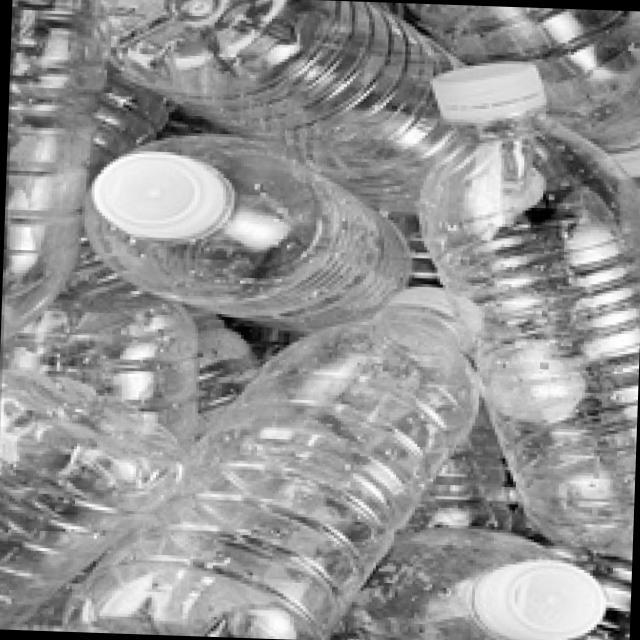good: (54, 235, 517, 637), (373, 47, 639, 569), (83, 124, 425, 338)
